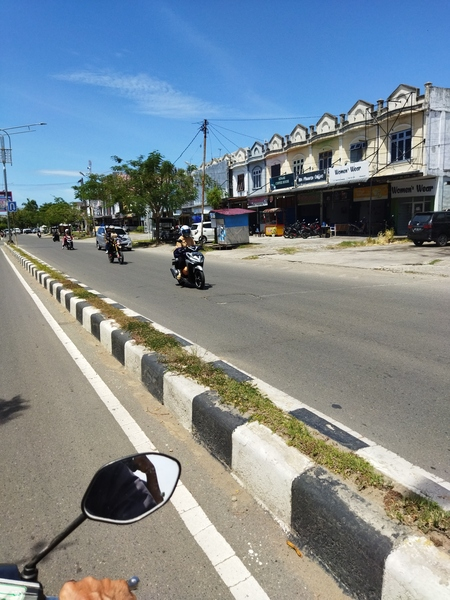car: (404, 206, 450, 247)
motorcycle: (169, 236, 214, 291), (104, 236, 128, 264), (60, 234, 75, 253)
